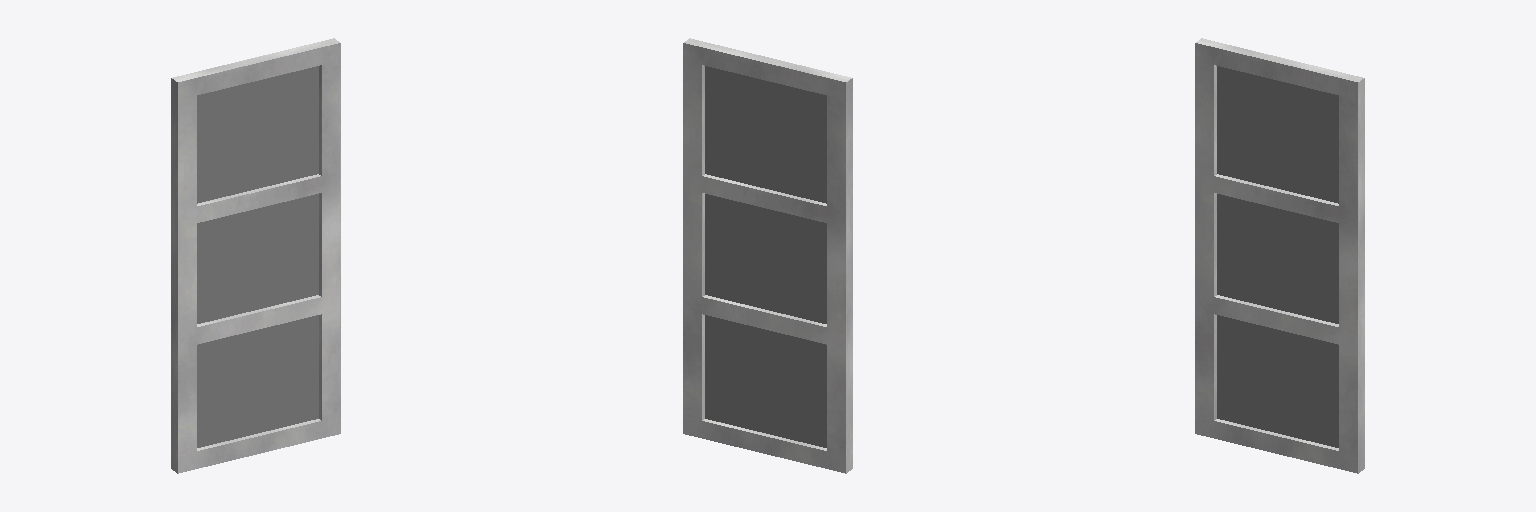
3 views of the same model, side by side, from view 1: azimuth 30°, elevation 25°; view 2: azimuth 150°, elevation 25°; view 3: azimuth 330°, elevation 25° (orthographic).
Parts seen in each view (by area): view 1: Window_Glass02, Window_04; view 2: Window_Glass02, Window_04; view 3: Window_Glass02, Window_04.
Part boxes in pixels (x1,y1,x2,y2): Window_Glass02: (197,66,318,447); Window_04: (171,38,340,473); Window_Glass02: (705,66,826,447); Window_04: (683,38,852,473); Window_Glass02: (1217,66,1338,447); Window_04: (1195,38,1364,473).
Size of the model in its own units: 53.46 by 123 by 3.56.
2 materials, 1 textured.